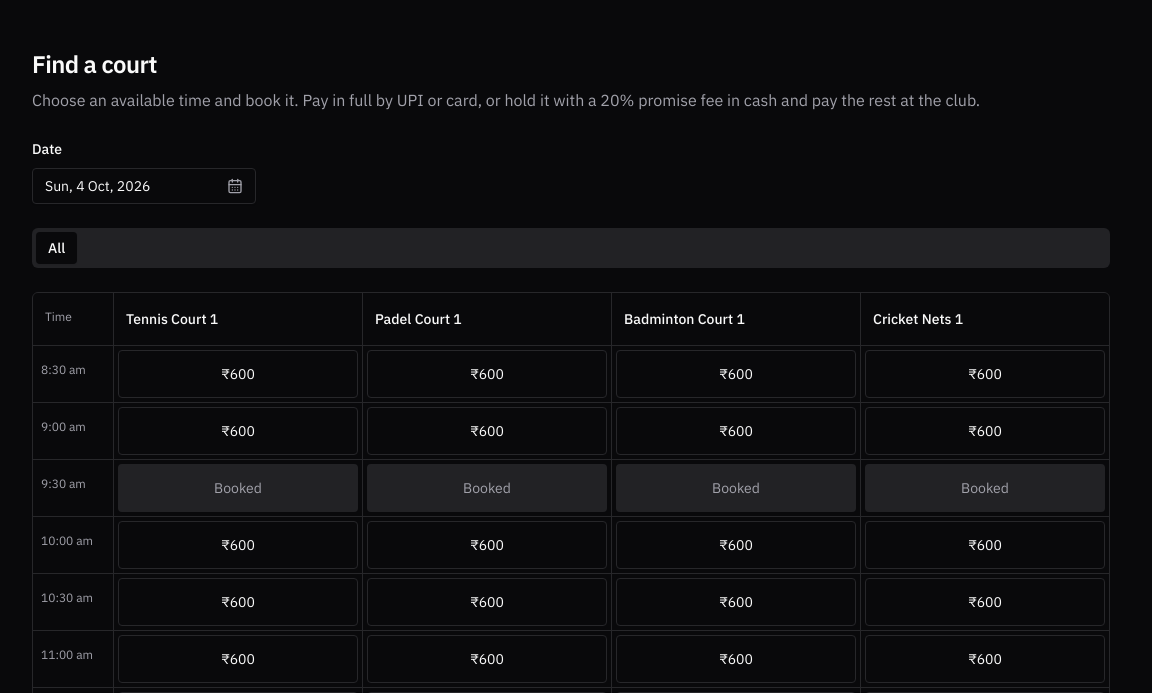
Test: Guest checkout › card pays in full; cash shows the 20% promise fee and the amount due at the club
Click the 1st button "₹600" at (238,374), box [118,350,358,398]
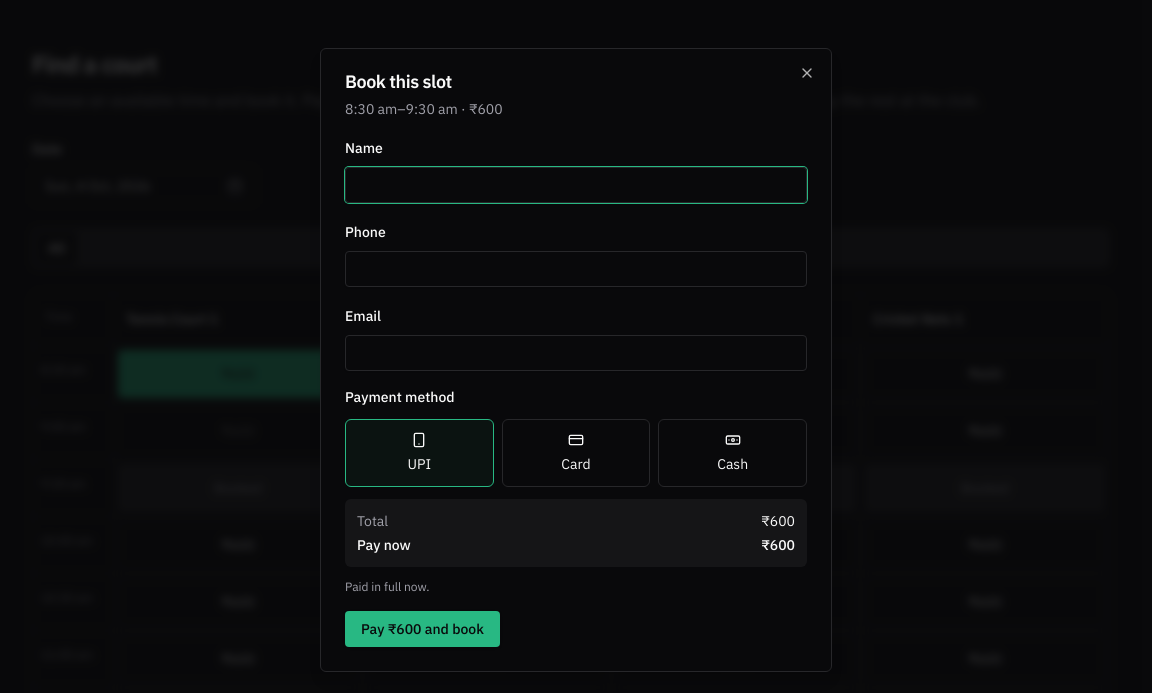
Type "Riya" into the field labelled "Name" at (576,185), box [345,167,807,203]
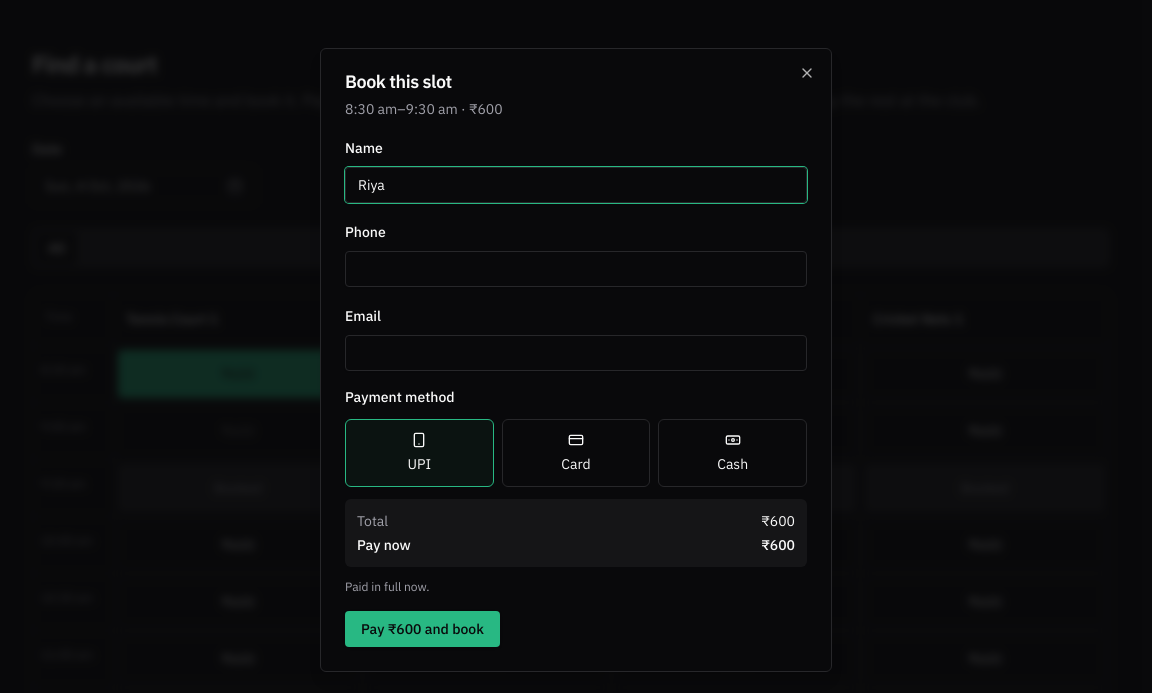
Type "9876543210" into the field labelled "Phone" at (576,269), box [345,251,807,287]
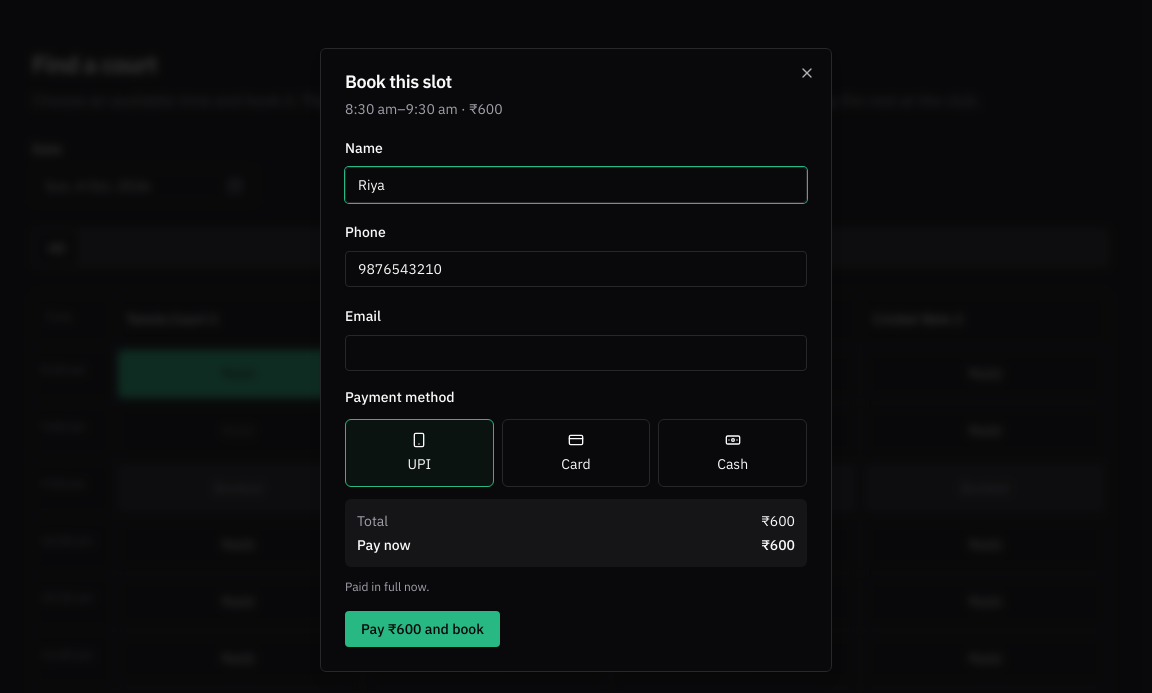
Click the radio button labelled "Card" at (576,453), box [502,419,650,487]
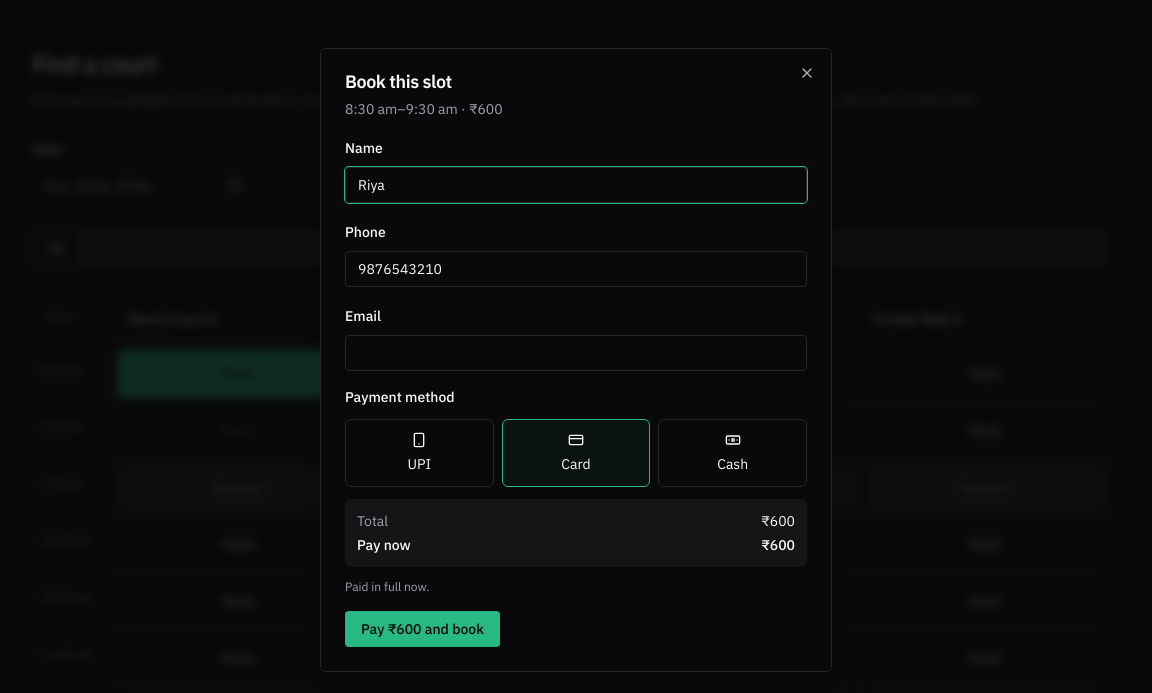
Now the text "Paid in full now." is shown, box [345,579,430,594]
Click the radio button labelled "Cash" at (733,453), box [658,419,807,487]
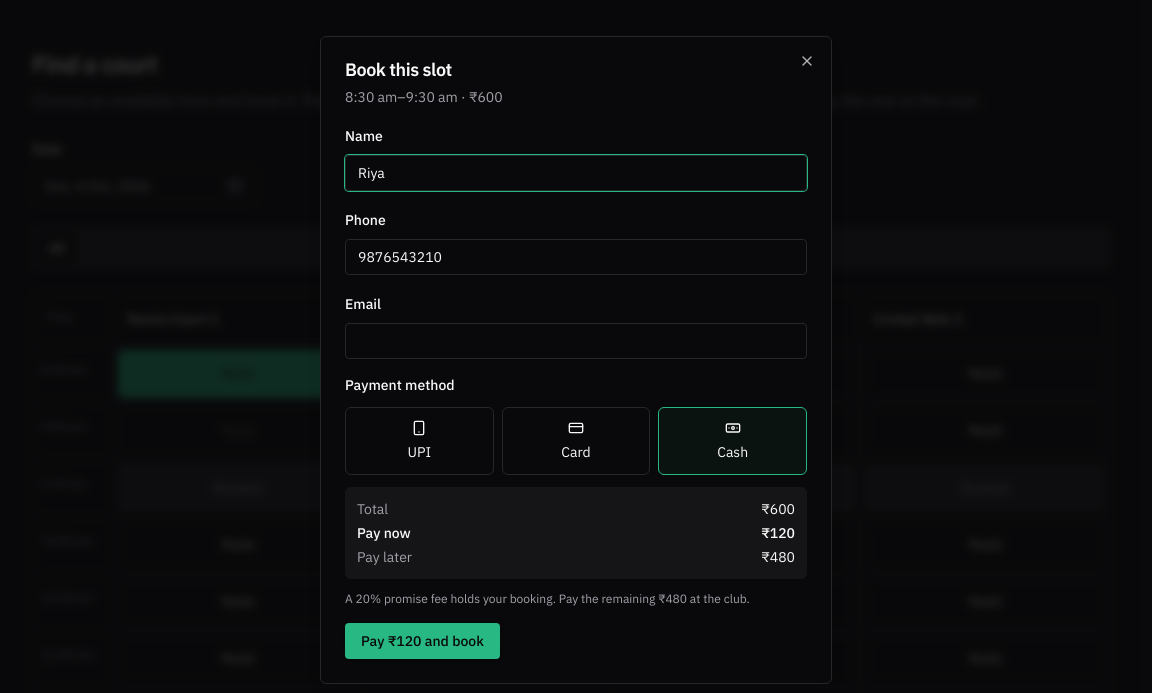
Now the text "A 20% promise fee holds your booking" is shown, box [345,591,750,606]
Now the text "Pay later" is shown, box [357,547,412,567]
Click the button "Pay ₹120 and book" at (422,641), box [345,623,500,659]
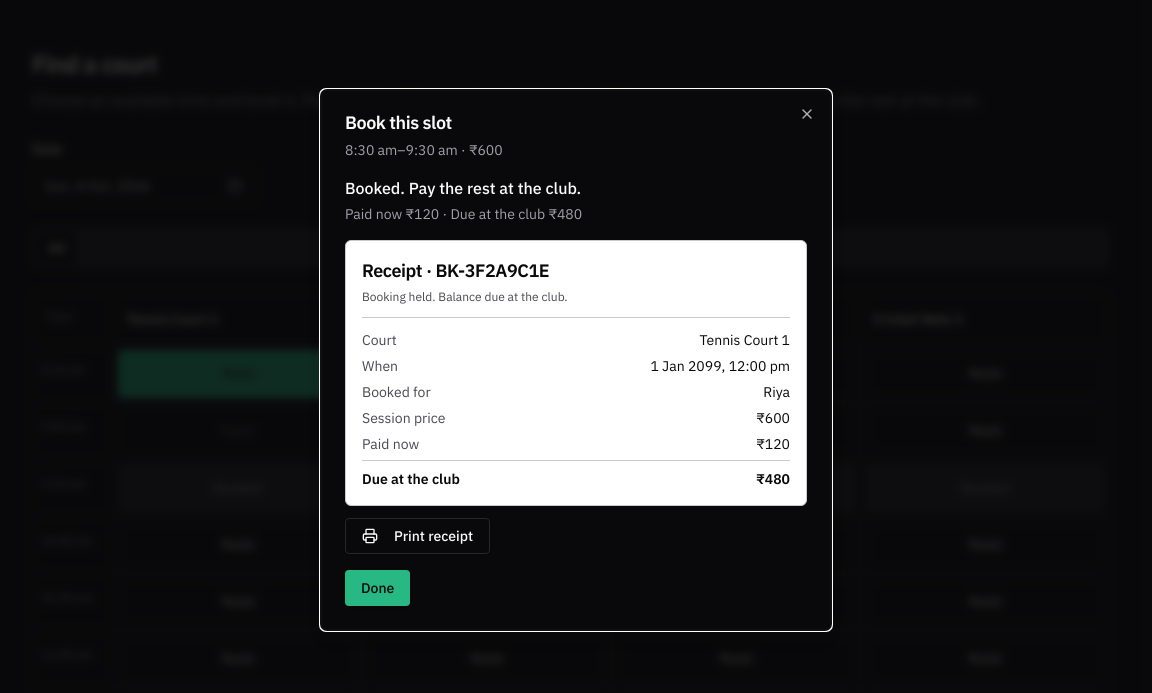
Now the message shows "Due at the club", box [439,205,582,223]
Now the element with test id "booking-receipt" shows "Booking held. Balance due at the club.", box [362,289,568,304]
Now the element with test id "booking-receipt" shows "₹480", box [756,470,790,488]
